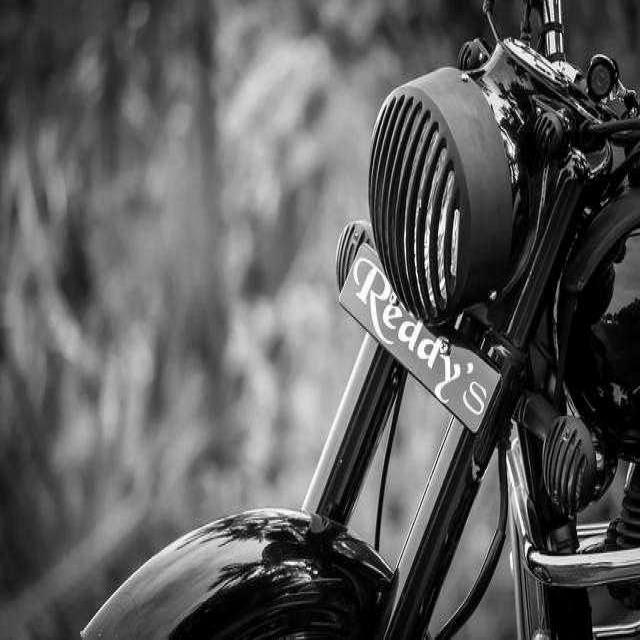Motorcycle: (82, 0, 639, 639)
